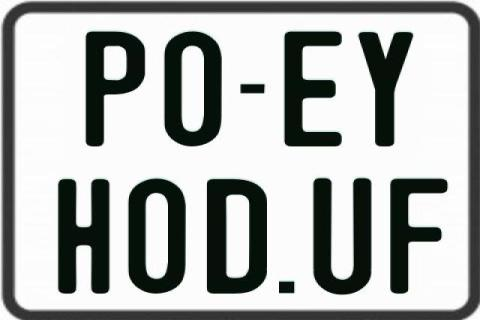0: (163, 29, 227, 145), (128, 177, 186, 292)
D: (204, 177, 264, 296)
E: (282, 31, 343, 151)
F: (389, 177, 448, 297)
H: (58, 179, 110, 296)
P: (84, 31, 147, 146)
U: (310, 179, 372, 299)
Y: (357, 32, 414, 148)
